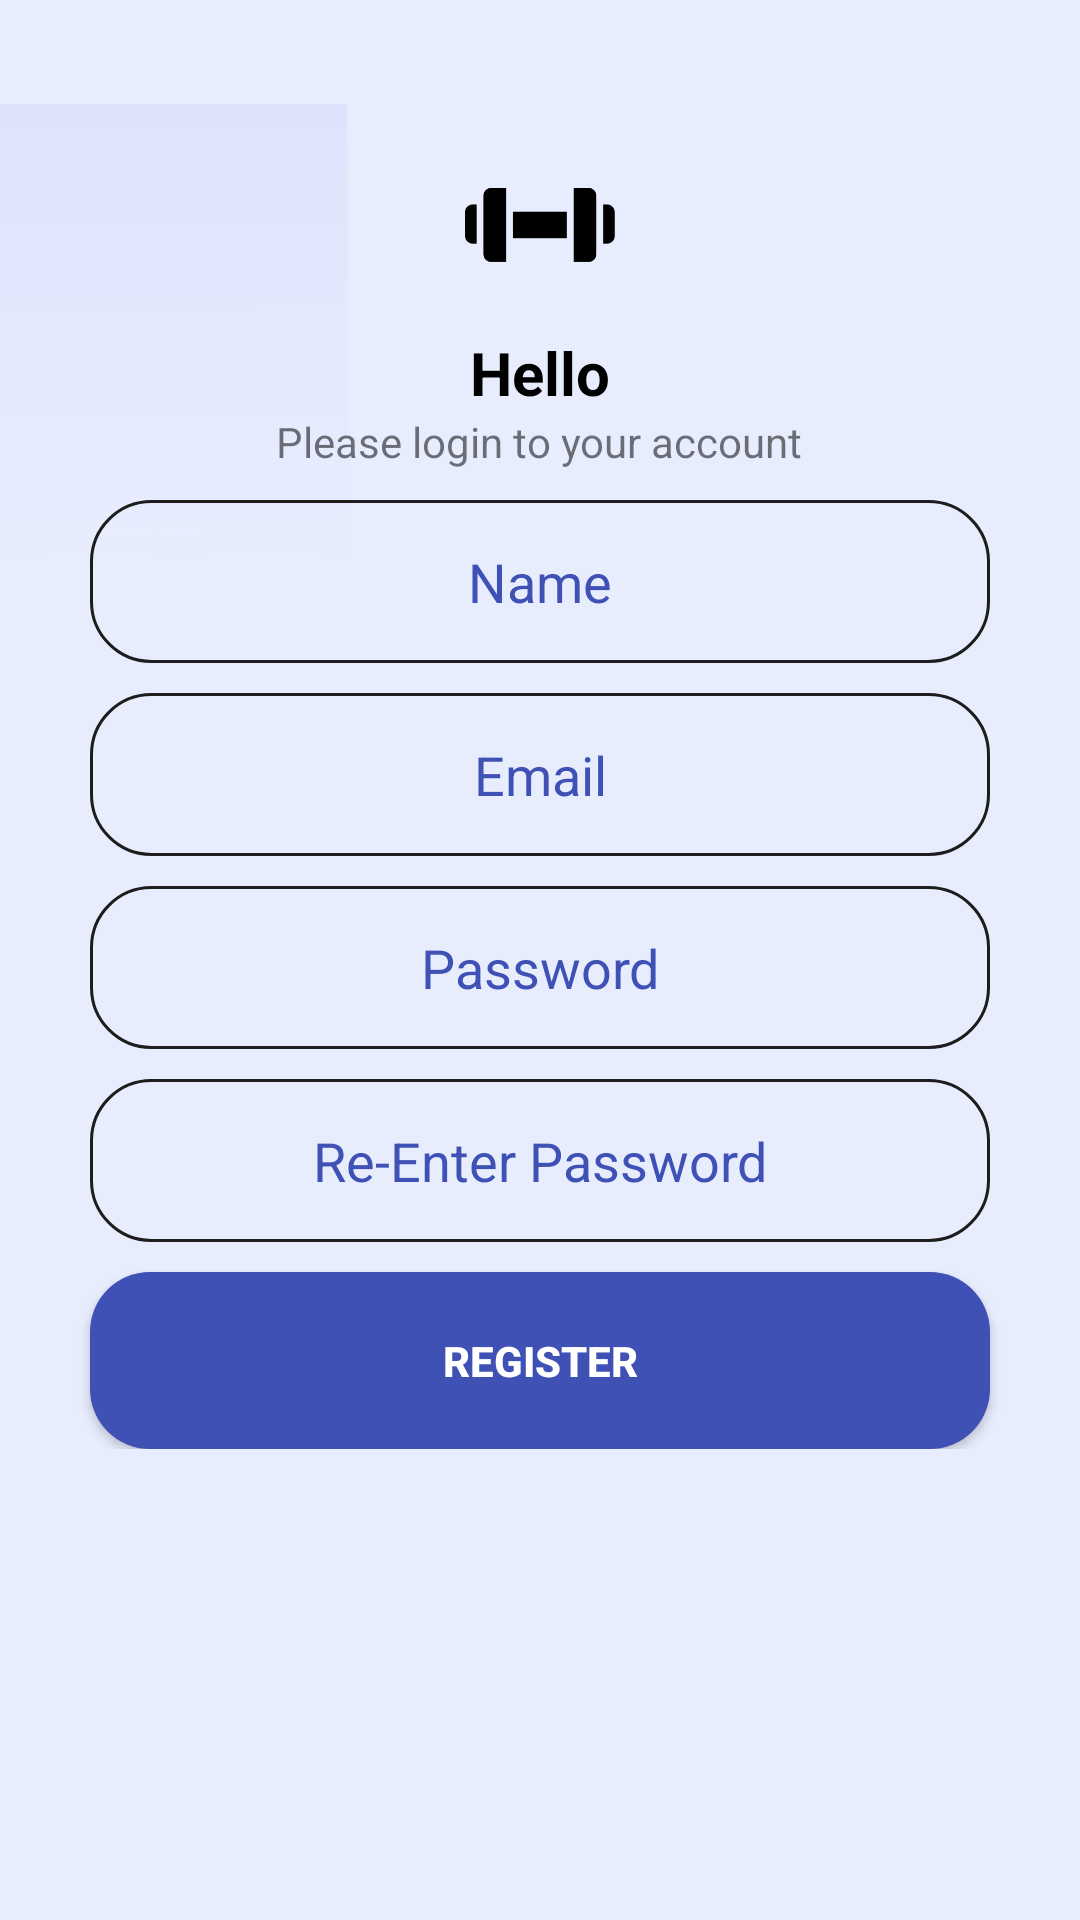

Where to tap for icons on this 1080px x 1920px app screen, as (x,y):
gym: (540,225)
